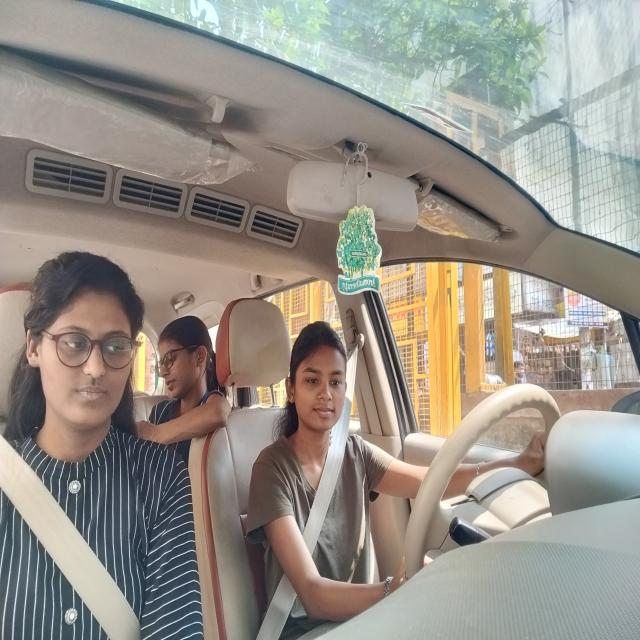person: (30, 253, 136, 427), (286, 328, 348, 444), (154, 320, 212, 400)
